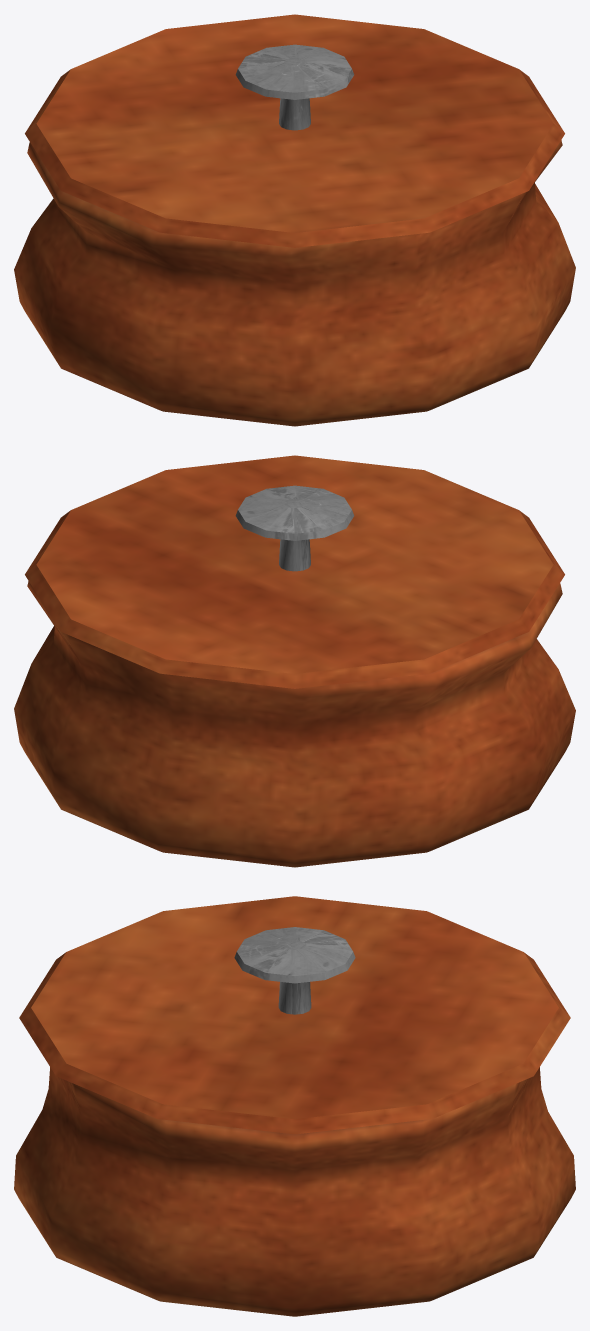
Rendered from spice_pot.glb.
3 renders of one model, top to bottom at view 1: azimuth 30°, elevation 25°; view 2: azimuth 150°, elevation 25°; view 3: azimuth 270°, elevation 25°, orthographic. The views are drawn at different scales.
Visible parts, largest first — view 1: Object_42; view 2: Object_42; view 3: Object_42.
Boxes of the visible parts, x1,y1,x2,y2 form: Object_42: (14,14,575,426); Object_42: (14,455,575,867); Object_42: (14,896,575,1316).
Bounding box in the file's own units: 0.2089 × 0.1031 × 0.2038.
Materials: 1 (1 with a texture image).
